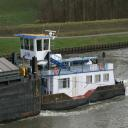tugboat: (13, 24, 127, 117)
